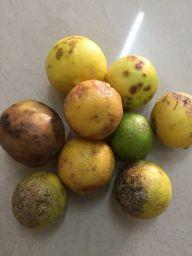lemon: (0, 98, 67, 168), (43, 31, 109, 99), (7, 166, 70, 230), (111, 159, 174, 219), (57, 136, 117, 198), (66, 80, 124, 142), (106, 50, 161, 111), (151, 91, 192, 149), (109, 108, 152, 161)
